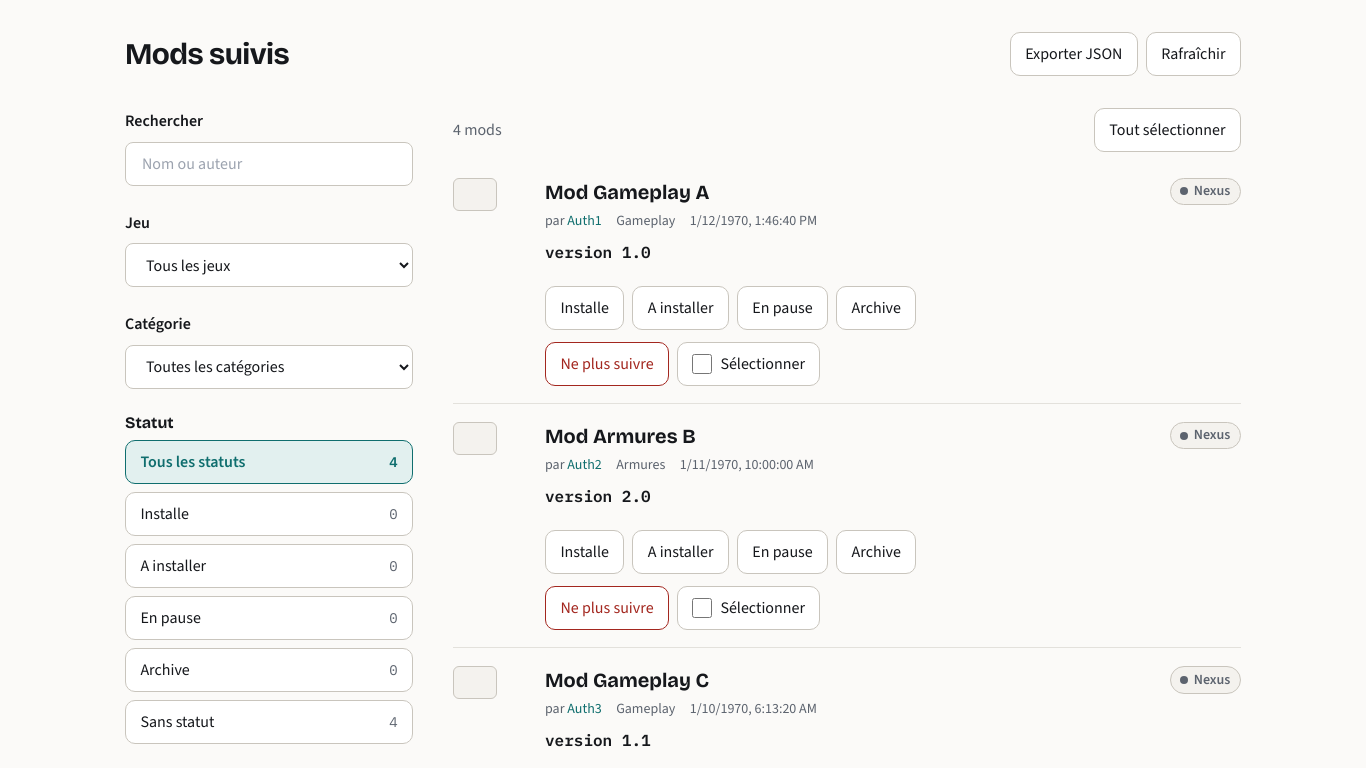
NexusModsPage — filtre par categorie › filtrer par 'Armures' n'affiche que les mods Armures
Select "Armures" in the dropdown showing "Toutes les catégories": coordinates (269, 367) [125, 345, 413, 389]
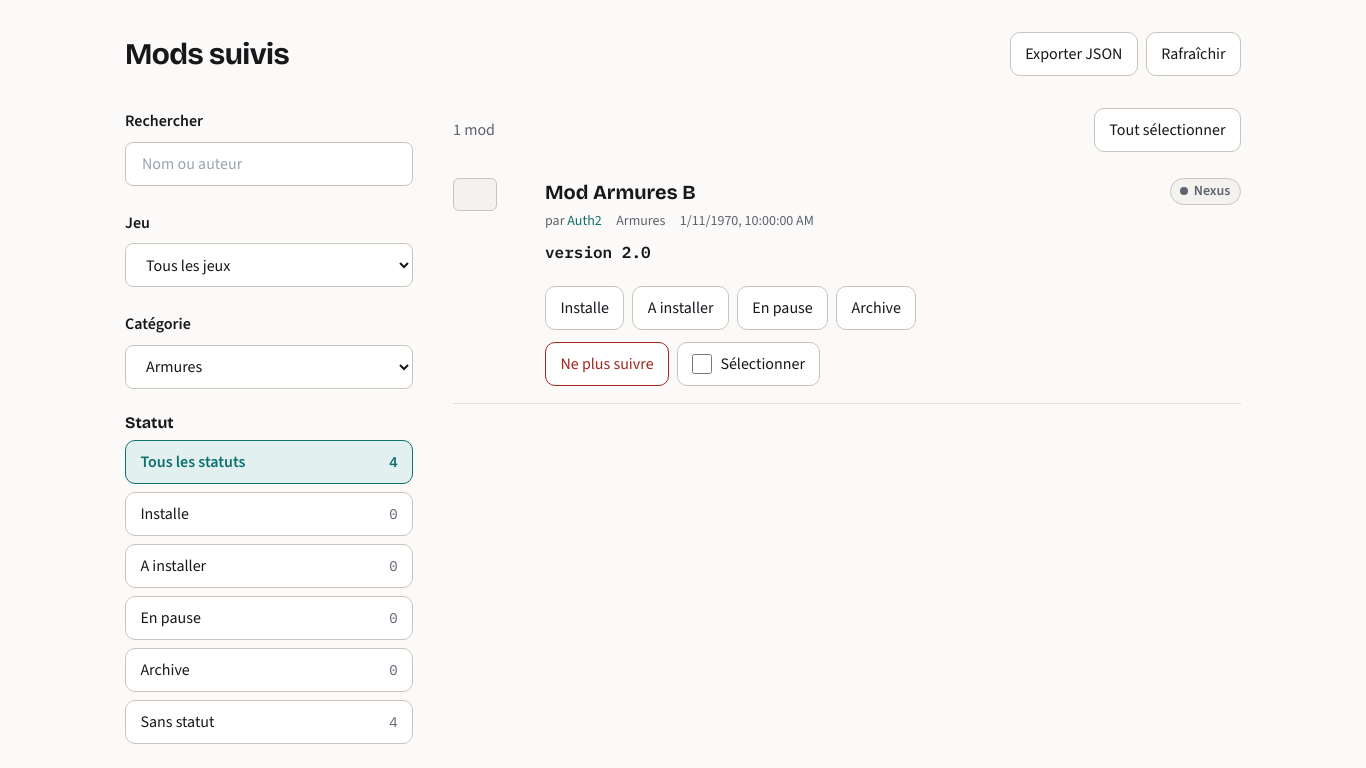
expect the heading "Mod Armures B" is shown: met, box [545, 180, 696, 204]
expect the heading "Mod Gameplay A" is gone: met
expect the heading "Mod Gameplay C" is gone: met
